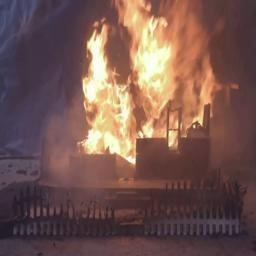fire: (69, 0, 232, 165)
